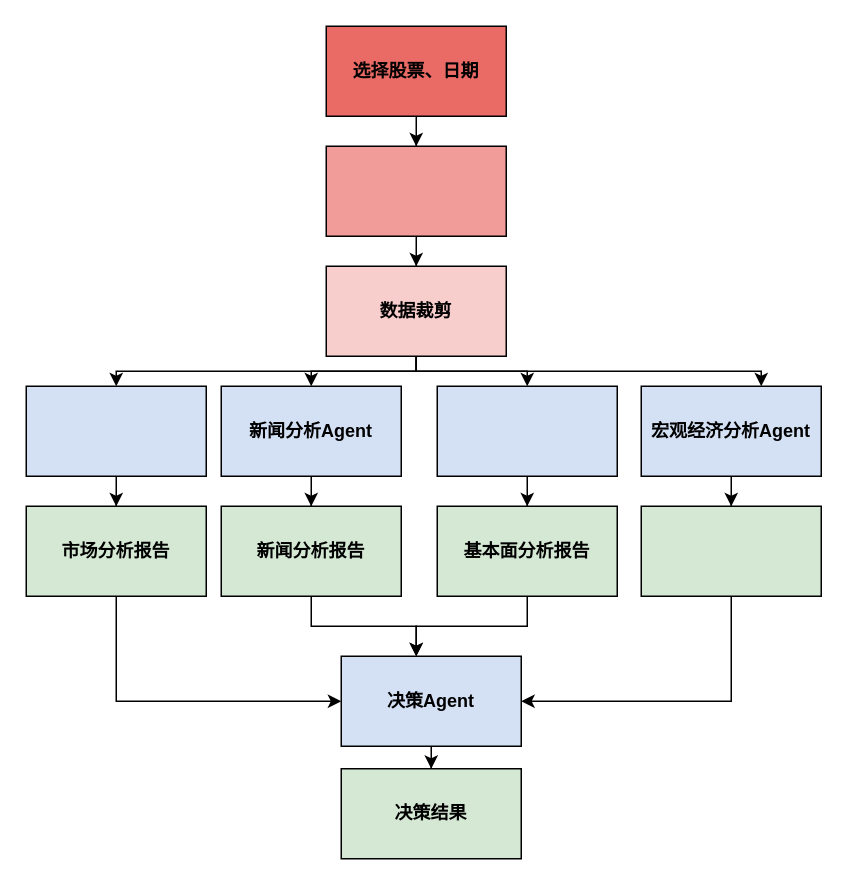
This 848x885 diagram has some shape labels left out. Here are the shapes that lost their labels. From the top down, the box of each, then its label:
(325, 145, 506, 236): akshare拉取数据
(25, 385, 206, 476): 市场分析Agent
(436, 385, 617, 476): 基本面分析Agent
(640, 505, 821, 596): 宏观经济分析报告
